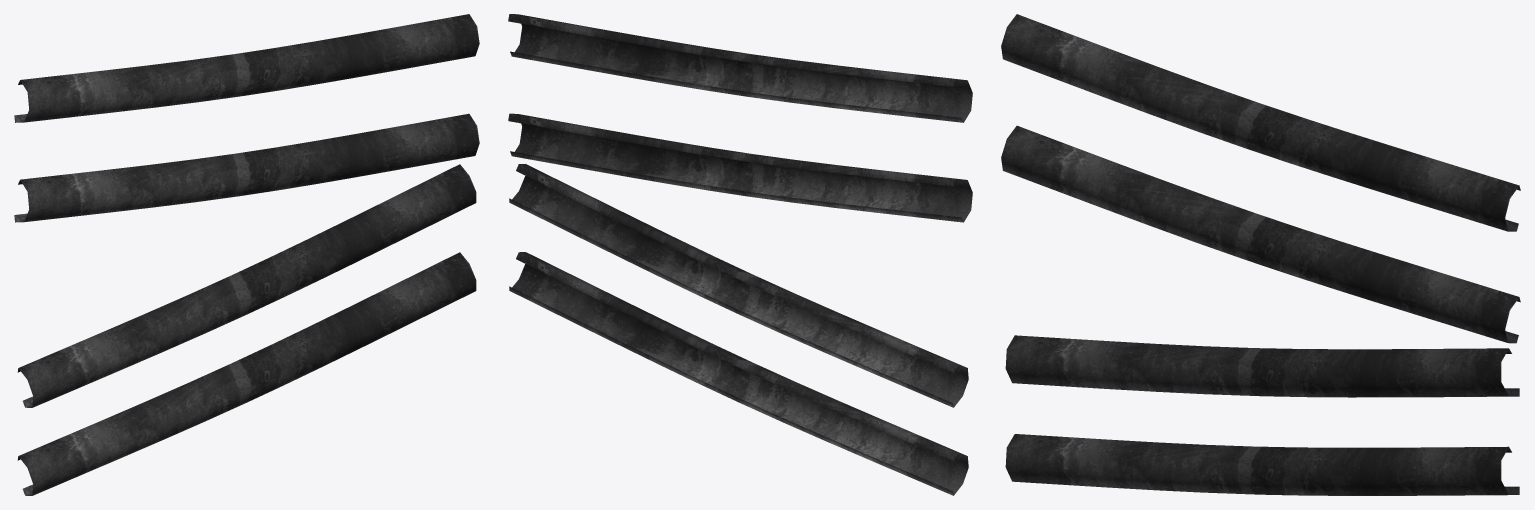
Rendered from Pipes3.fbx.
The picture shows the model from 3 angles, left to right: view 1: azimuth 30°, elevation 25°; view 2: azimuth 150°, elevation 25°; view 3: azimuth 330°, elevation 25°; orthographic projection. The views are drawn at different scales.
Parts seen in each view (by area): view 1: SmartCombine_16; view 2: SmartCombine_16; view 3: SmartCombine_16.
Boxes of the visible parts, x1,y1,x2,y2 form: SmartCombine_16: (14,14,479,495); SmartCombine_16: (508,14,972,495); SmartCombine_16: (1001,14,1520,495).
Size of the model in its own units: 70.9 by 62.2 by 3.56.
